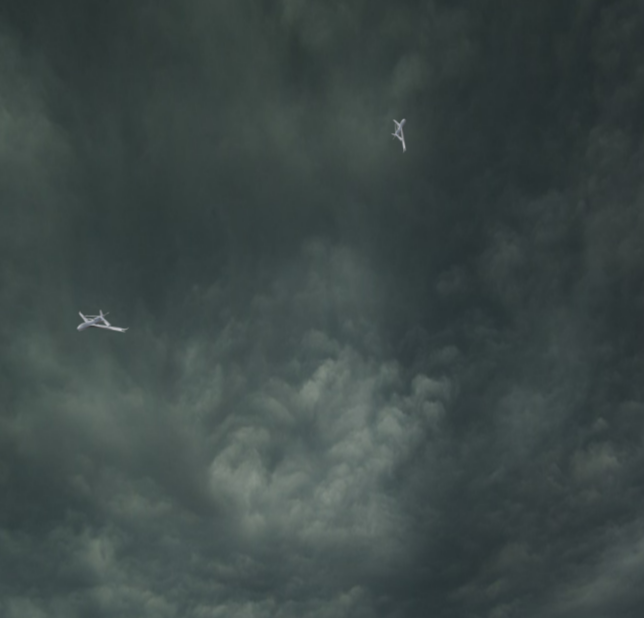military drone: (76, 309, 129, 333), (390, 118, 406, 153)
